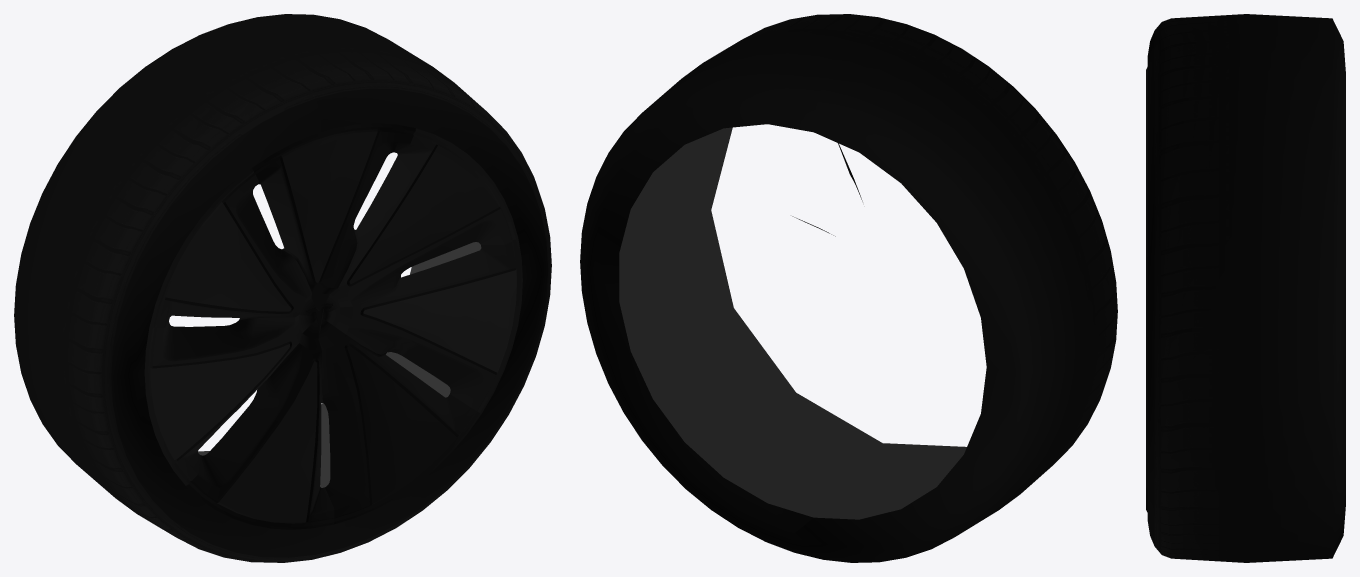
The model's file is Glider.glb.
The picture shows the model from 3 angles, left to right: view 1: azimuth 30°, elevation 25°; view 2: azimuth 150°, elevation 25°; view 3: azimuth 270°, elevation 25°; orthographic projection. The views are drawn at different scales.
Parts seen in each view (by area): view 1: Wheel_Glider; view 2: Wheel_Glider; view 3: Wheel_Glider.
Boxes of the visible parts, x1,y1,x2,y2 form: Wheel_Glider: (14, 14, 551, 562); Wheel_Glider: (580, 14, 1117, 562); Wheel_Glider: (1146, 14, 1345, 562).
Size of the model in its own units: 0.6735 by 0.6722 by 0.2451.
Materials: 2 (2 with a texture image).
